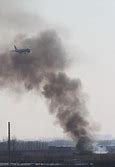smoke: (1, 26, 93, 148)
